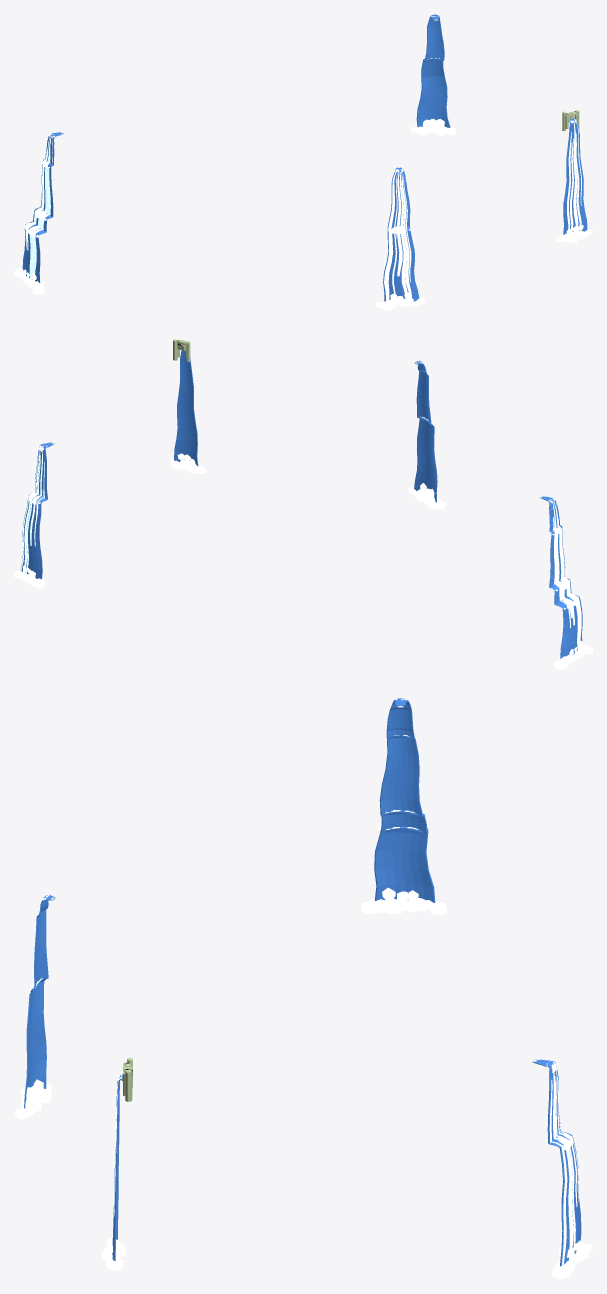
Rendered from ILHA3_07_WATER_545a69.fbx.
3 views of the same model, one above another, from view 1: azimuth 30°, elevation 25°; view 2: azimuth 150°, elevation 25°; view 3: azimuth 270°, elevation 25° (orthographic). The views are drawn at different scales.
Visible parts, largest first — view 1: SG_Water_Fall_East__Water_SG, SG_Water_Fall_West__Water_Fall, SG_Water_Fall_West__Water_SG, SG_Water_Fall_South__Water_SG, SG_Water_Fall_North__Water_SG, SG_Water_Fall_South__Water_Fall, SG_Water_Fall_North__Water_Fall, SG_Water_Fall_North__Foam, SG_Water_Fall_West__Foam, SG_Water_Fall_East__Foam, SG_Water_Fall_South__Foam; view 2: SG_Water_Fall_West__Water_SG, SG_Water_Fall_South__Water_SG, SG_Water_Fall_North__Water_SG, SG_Water_Fall_East__Water_SG, SG_Water_Fall_North__Water_Fall, SG_Water_Fall_North__Foam, SG_Water_Fall_East__Water_Fall, SG_Water_Fall_East__Foam, SG_Water_Fall_West__Foam; view 3: SG_Water_Fall_North__Water_SG, SG_Water_Fall_West__Water_SG, SG_Water_Fall_East__Water_SG, SG_Water_Fall_East__Water_Fall, SG_Water_Fall_North__Foam, SG_Water_Fall_East__Foam, SG_Water_Fall_West__Foam, SG_Water_Fall_South__Water_SG.
Boxes of the visible parts, box(x1,y1,x2,y2) form: SG_Water_Fall_East__Water_SG: box(416, 14, 450, 127); SG_Water_Fall_West__Water_Fall: box(384, 170, 412, 300); SG_Water_Fall_West__Water_SG: box(383, 167, 419, 301); SG_Water_Fall_South__Water_SG: box(563, 118, 587, 234); SG_Water_Fall_North__Water_SG: box(22, 132, 62, 282); SG_Water_Fall_South__Water_Fall: box(567, 120, 581, 230); SG_Water_Fall_North__Water_Fall: box(25, 135, 51, 280); SG_Water_Fall_North__Foam: box(14, 132, 62, 294); SG_Water_Fall_West__Foam: box(375, 167, 425, 310); SG_Water_Fall_East__Foam: box(411, 14, 456, 135); SG_Water_Fall_South__Foam: box(556, 119, 592, 242); SG_Water_Fall_West__Water_SG: box(414, 360, 437, 502); SG_Water_Fall_South__Water_SG: box(174, 347, 198, 466); SG_Water_Fall_North__Water_SG: box(541, 496, 582, 658); SG_Water_Fall_East__Water_SG: box(20, 442, 53, 579); SG_Water_Fall_North__Water_Fall: box(552, 499, 581, 650); SG_Water_Fall_North__Foam: box(541, 496, 592, 669); SG_Water_Fall_East__Water_Fall: box(21, 451, 44, 573); SG_Water_Fall_East__Foam: box(14, 442, 53, 588); SG_Water_Fall_West__Foam: box(408, 360, 446, 509); SG_Water_Fall_North__Water_SG: box(374, 698, 435, 902); SG_Water_Fall_West__Water_SG: box(24, 894, 54, 1108); SG_Water_Fall_East__Water_SG: box(533, 1059, 581, 1266); SG_Water_Fall_East__Water_Fall: box(549, 1070, 578, 1265); SG_Water_Fall_North__Foam: box(361, 698, 447, 915); SG_Water_Fall_East__Foam: box(534, 1060, 592, 1279); SG_Water_Fall_West__Foam: box(14, 894, 53, 1119); SG_Water_Fall_South__Water_SG: box(112, 1074, 122, 1261).
Bounding box in the file's own units: 404 × 118 × 265.
4 materials, 1 textured.
